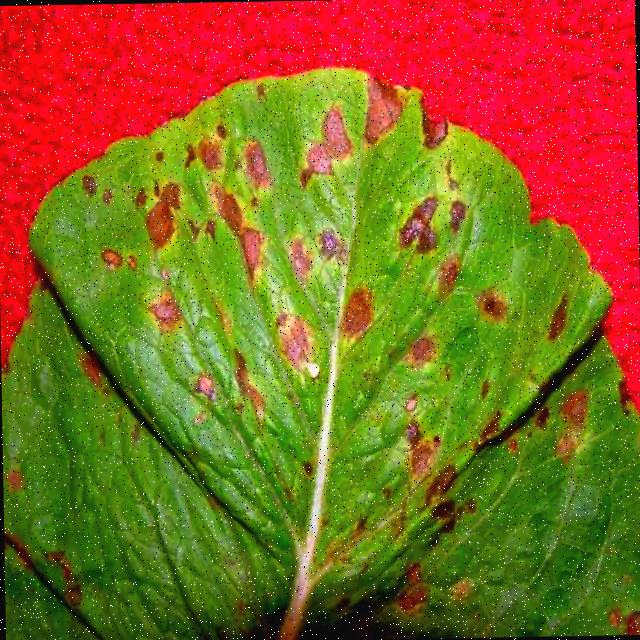Septoria_Blight_on_lettuce: (252, 192, 514, 525)
